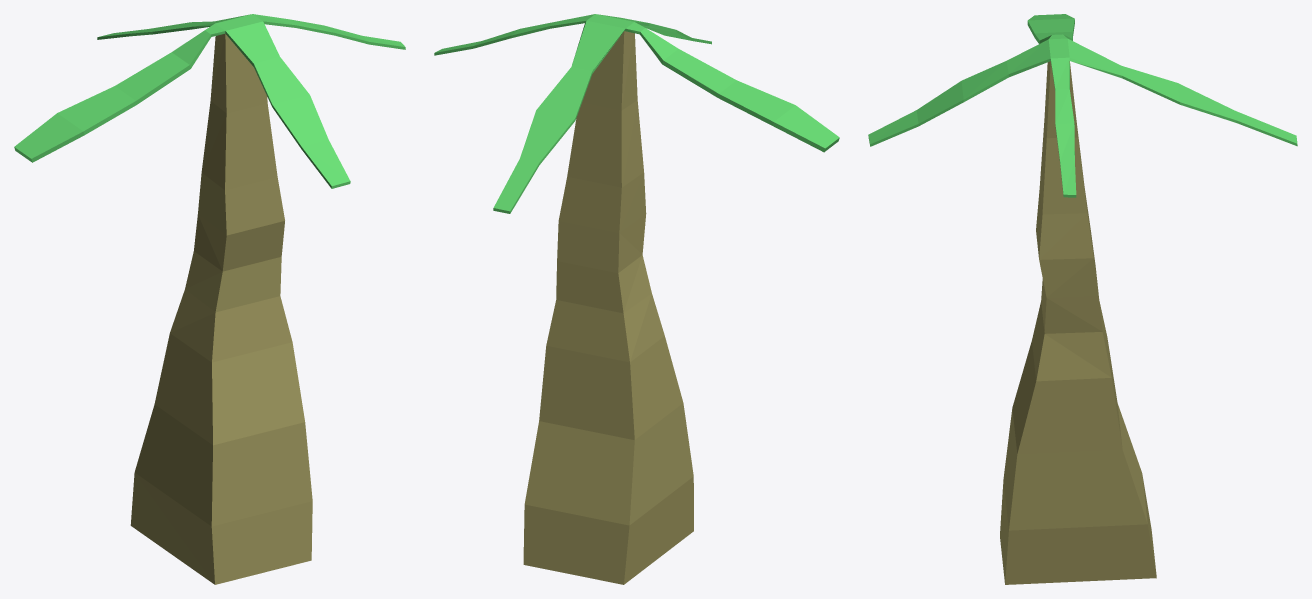
File: PalmTree.obj
3 views of the same model, side by side, from view 1: azimuth 30°, elevation 25°; view 2: azimuth 150°, elevation 25°; view 3: azimuth 270°, elevation 25° (orthographic). The views are drawn at different scales.
Parts seen in each view (by area): view 1: tree_Cube.001; view 2: tree_Cube.001; view 3: tree_Cube.001.
Boxes of the visible parts, x1,y1,x2,y2 form: tree_Cube.001: [14, 14, 405, 584]; tree_Cube.001: [434, 14, 839, 584]; tree_Cube.001: [868, 14, 1297, 584].
Bounding box in the file's own units: 3.4 × 4.38 × 3.31.
